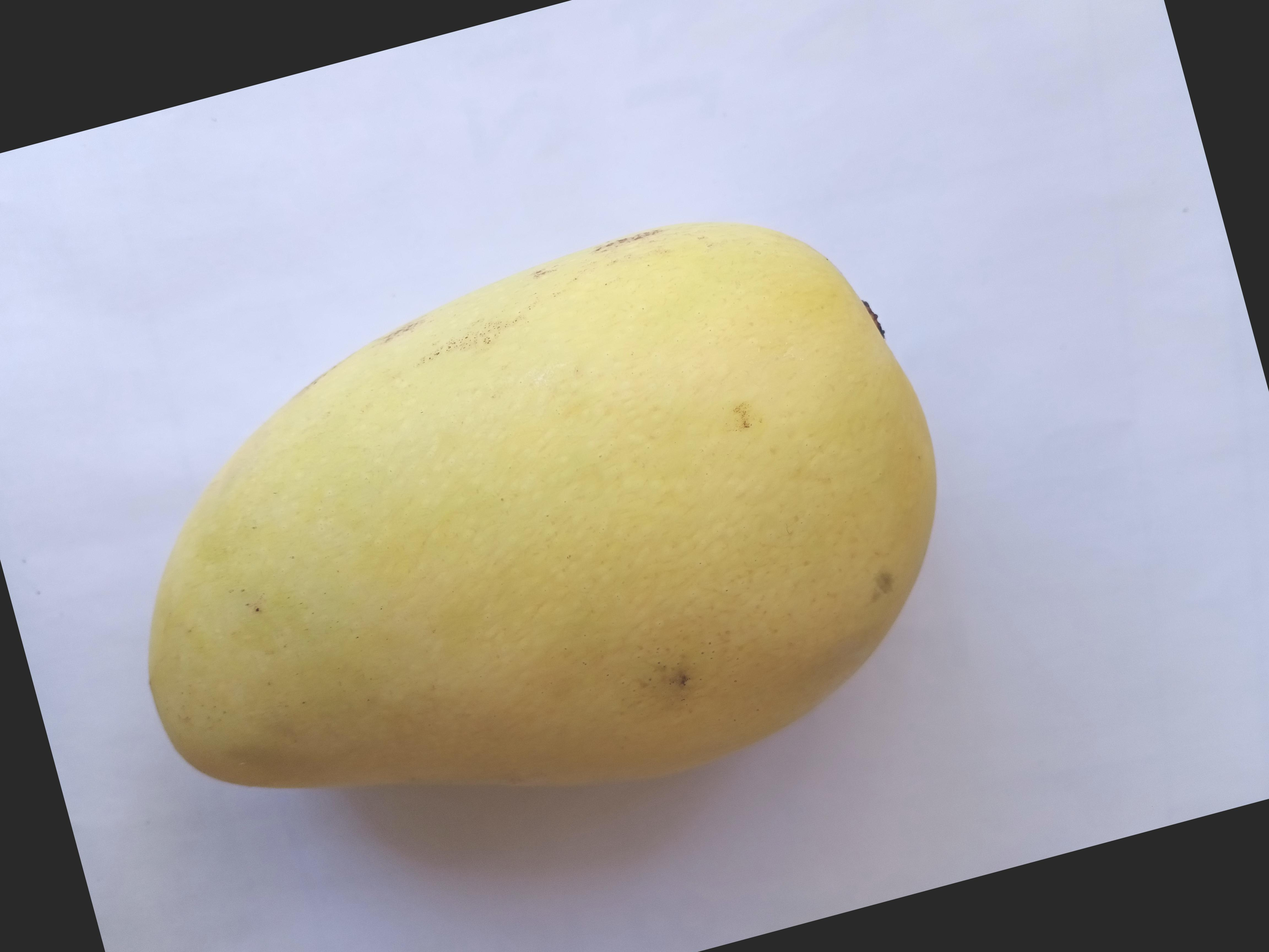Mango Ripe: (0, 353, 955, 952)
